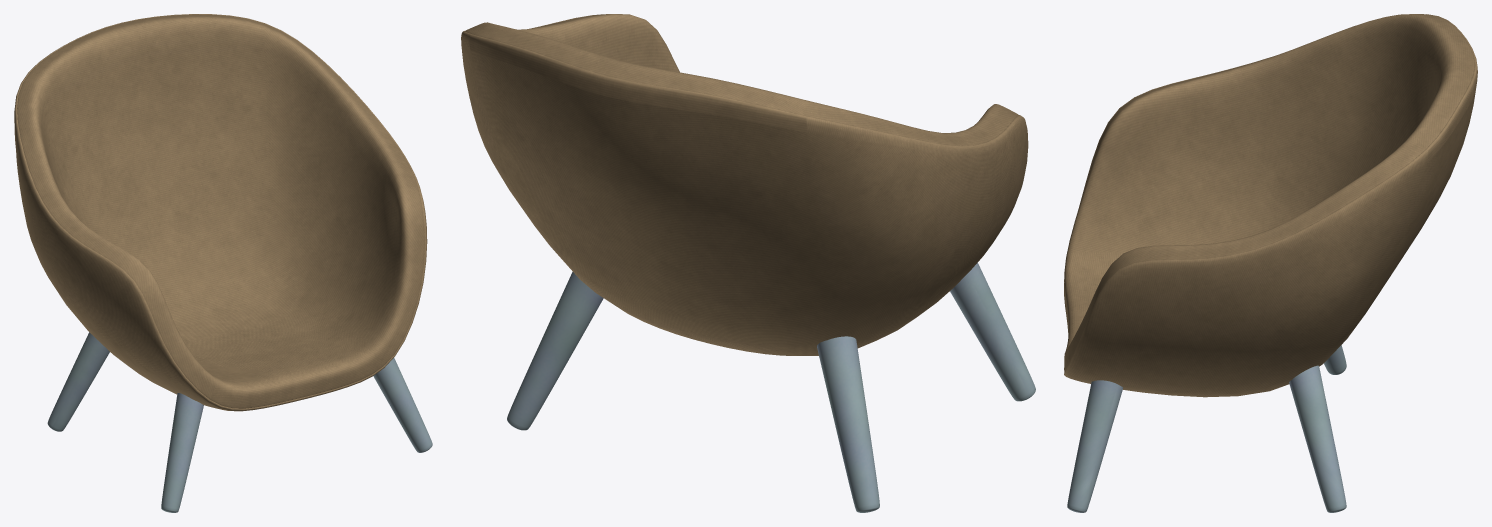
The model's file is chair2.glb.
3 renders of one model, left to right at view 1: azimuth 30°, elevation 25°; view 2: azimuth 150°, elevation 25°; view 3: azimuth 270°, elevation 25°, orthographic. The views are drawn at different scales.
Visible parts, largest first — view 1: Cylinder.002, Cylinder.001; view 2: Cylinder.002, Cylinder.001; view 3: Cylinder.002, Cylinder.001.
Part boxes in pixels (<box>): Cylinder.002: <box>14,14,427,411</box>; Cylinder.001: <box>21,27,432,512</box>; Cylinder.002: <box>461,14,1028,355</box>; Cylinder.001: <box>469,34,1035,512</box>; Cylinder.002: <box>1064,14,1475,397</box>; Cylinder.001: <box>1067,16,1477,512</box>.
Bounding box in the file's own units: 0.6413 × 0.6011 × 0.5903.
Materials: 1 (1 with a texture image).
